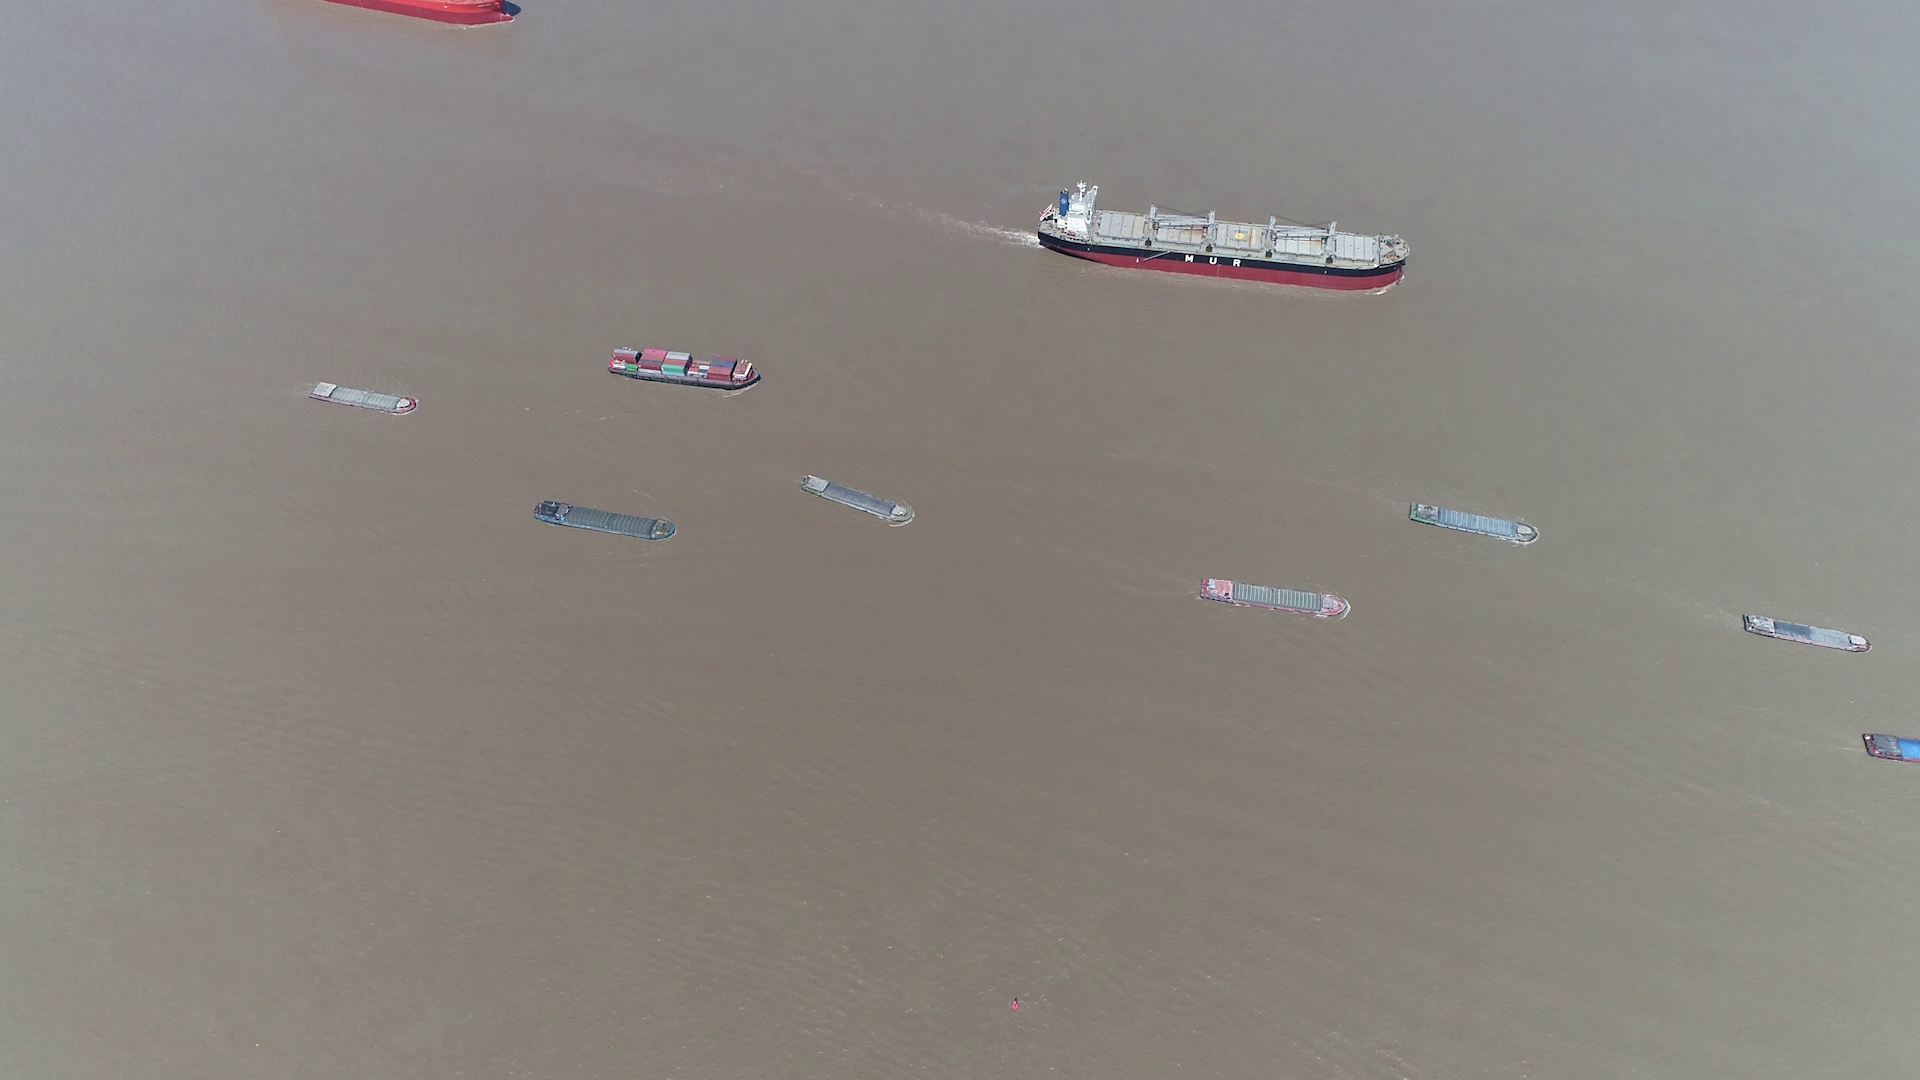ship: (1040, 185, 1411, 289), (608, 347, 760, 389), (1200, 578, 1352, 618), (535, 500, 676, 542), (1407, 500, 1539, 545), (1738, 611, 1873, 654), (803, 476, 914, 527), (307, 381, 419, 415), (1865, 733, 1920, 765)
